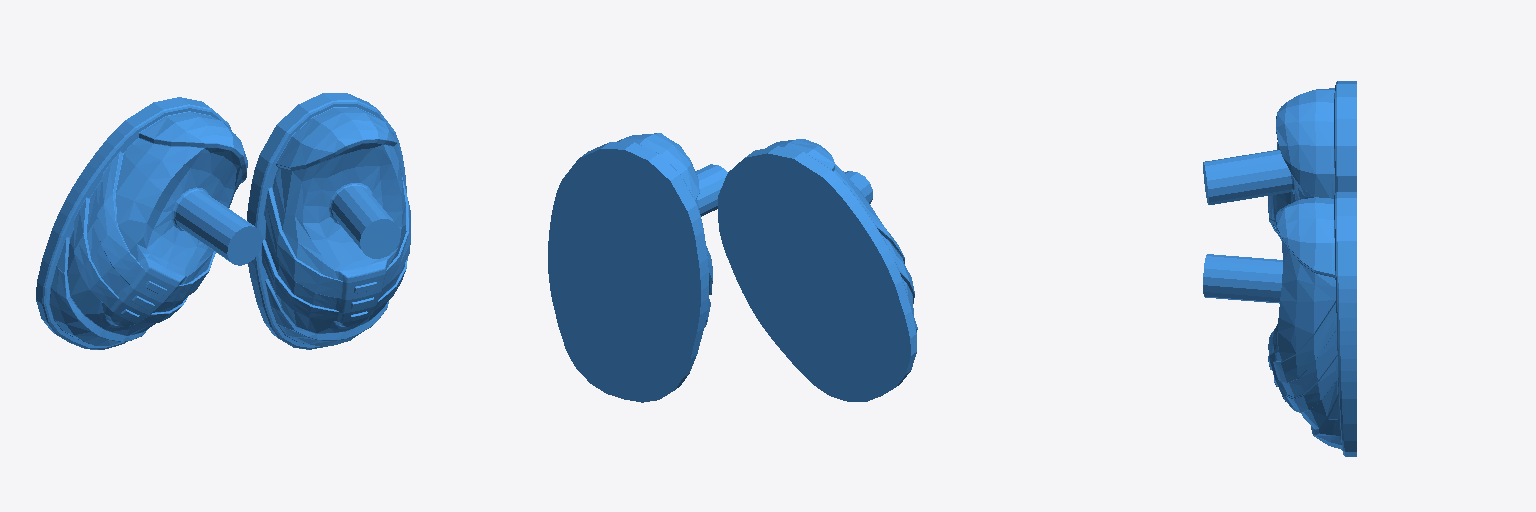
The model's file is legs.obj.
3 renders of one model, left to right at view 1: azimuth 30°, elevation 25°; view 2: azimuth 150°, elevation 25°; view 3: azimuth 270°, elevation 25°, orthographic.
Visible parts, largest first — view 1: Object.2, Object.1; view 2: Object.1, Object.2; view 3: Object.1, Object.2.
Boxes of the visible parts, <box> form: Object.2: <box>36,97,262,349</box>; Object.1: <box>247,93,410,349</box>; Object.1: <box>548,133,727,402</box>; Object.2: <box>718,139,917,401</box>; Object.1: <box>1203,192,1356,456</box>; Object.2: <box>1203,81,1356,240</box>.
Size of the model in its own units: 513 by 381 by 188.